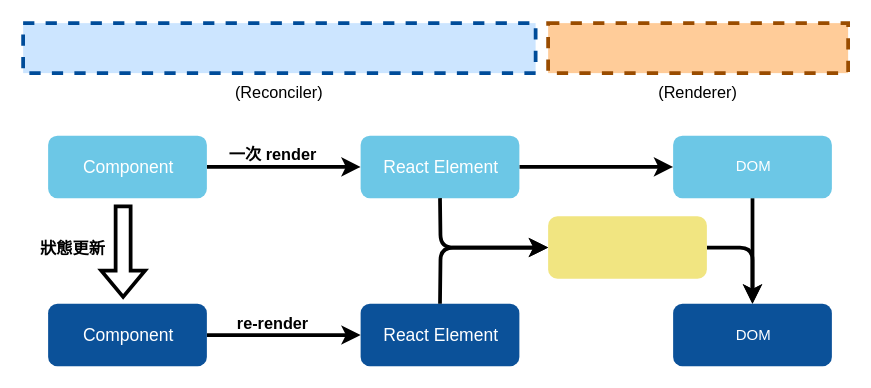
The diagram is 871 pixels wide and 388 high, and some of its shapes have lost their labels. The centre of each missing label's shape, as x and y in pixels:
Commit Phase: the point at 697,47
Render Phase: the point at 279,47
差異: the point at 627,247
